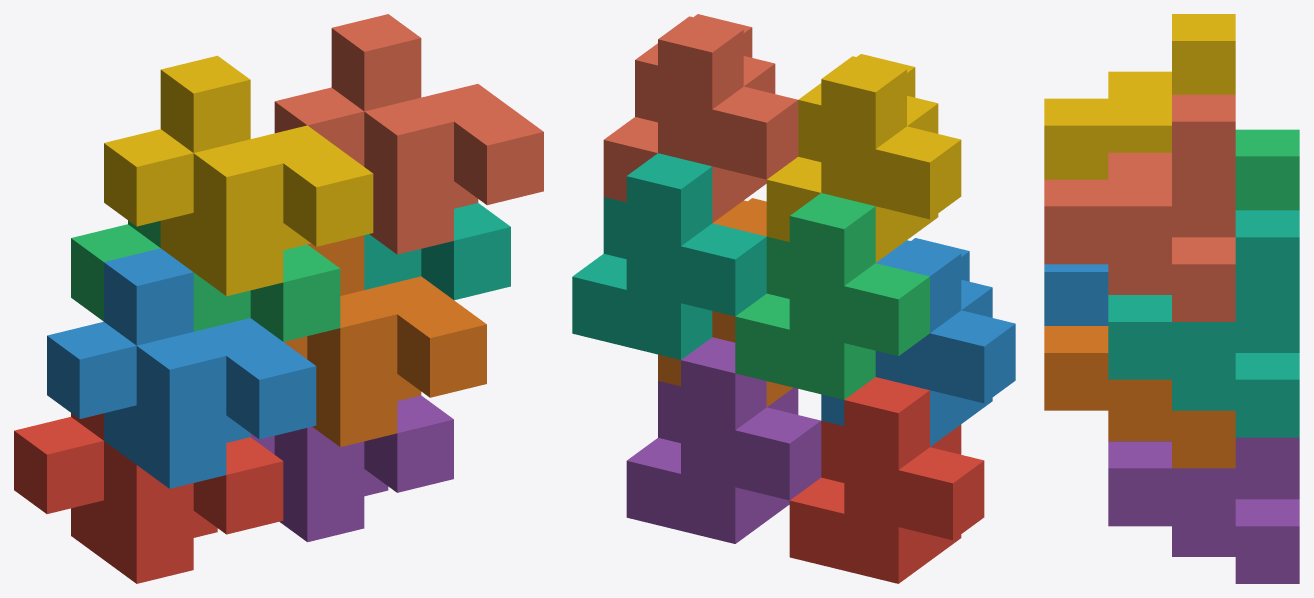
File: tiling.obj
The picture shows the model from 3 angles, left to right: view 1: azimuth 30°, elevation 25°; view 2: azimuth 150°, elevation 25°; view 3: azimuth 270°, elevation 25°; orthographic projection. The views are drawn at different scales.
Parts seen in each view (by area): view 1: copy_1_domain_4, copy_1_domain_2, copy_1_domain_8, copy_1_domain_1, copy_1_domain_6, copy_1_domain_5, copy_1_domain_3, copy_1_domain_7; view 2: copy_1_domain_1, copy_1_domain_7, copy_1_domain_3, copy_1_domain_5, copy_1_domain_4, copy_1_domain_8, copy_1_domain_2, copy_1_domain_6; view 3: copy_1_domain_8, copy_1_domain_7, copy_1_domain_5, copy_1_domain_4, copy_1_domain_6, copy_1_domain_3, copy_1_domain_2.
Part boxes in pixels (left/top/right/bottom): copy_1_domain_4: left=104, top=55, right=373, bottom=296; copy_1_domain_2: left=47, top=248, right=316, bottom=488; copy_1_domain_8: left=274, top=14, right=543, bottom=254; copy_1_domain_1: left=14, top=413, right=283, bottom=583; copy_1_domain_6: left=284, top=235, right=486, bottom=446; copy_1_domain_5: left=250, top=395, right=453, bottom=542; copy_1_domain_3: left=71, top=220, right=340, bottom=341; copy_1_domain_7: left=364, top=203, right=510, bottom=300; copy_1_domain_1: left=789, top=377, right=984, bottom=583; copy_1_domain_7: left=572, top=153, right=766, bottom=359; copy_1_domain_3: left=735, top=193, right=929, bottom=399; copy_1_domain_5: left=626, top=337, right=821, bottom=543; copy_1_domain_4: left=766, top=54, right=961, bottom=262; copy_1_domain_8: left=603, top=14, right=798, bottom=222; copy_1_domain_2: left=821, top=238, right=1015, bottom=446; copy_1_domain_6: left=658, top=198, right=792, bottom=406; copy_1_domain_8: left=1044, top=94, right=1235, bottom=321; copy_1_domain_7: left=1108, top=210, right=1299, bottom=437; copy_1_domain_5: left=1108, top=437, right=1299, bottom=583; copy_1_domain_4: left=1044, top=14, right=1235, bottom=179; copy_1_domain_6: left=1044, top=326, right=1235, bottom=468; copy_1_domain_3: left=1235, top=129, right=1299, bottom=210; copy_1_domain_2: left=1044, top=264, right=1108, bottom=325.
Size of the model in its own units: 7 by 8 by 4.
